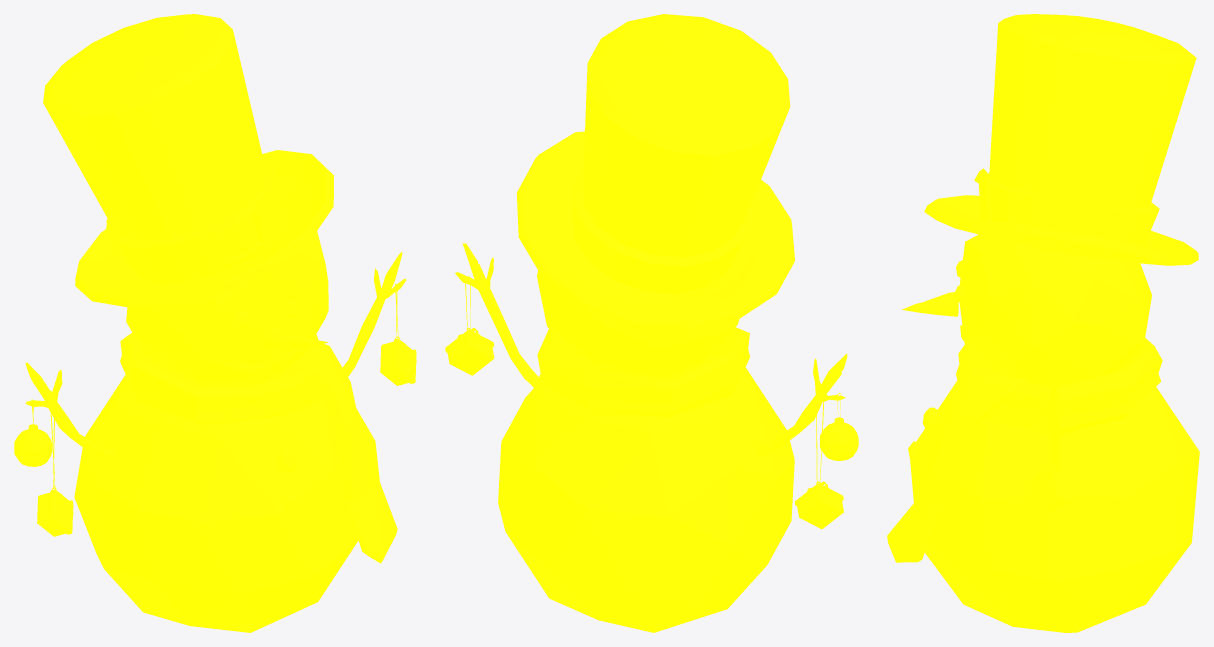
Rendered from RW_Snowman03.glb.
3 views of the same model, side by side, from view 1: azimuth 30°, elevation 25°; view 2: azimuth 150°, elevation 25°; view 3: azimuth 270°, elevation 25° (orthographic). The views are drawn at different scales.
Parts seen in each view (by area): view 1: RW_LP_CP_Character_SnowMan_003; view 2: RW_LP_CP_Character_SnowMan_003; view 3: RW_LP_CP_Character_SnowMan_003.
Part boxes in pixels (left/top/right/bottom): RW_LP_CP_Character_SnowMan_003: left=14, top=14, right=416, bottom=632; RW_LP_CP_Character_SnowMan_003: left=445, top=14, right=858, bottom=632; RW_LP_CP_Character_SnowMan_003: left=887, top=14, right=1199, bottom=632.
Bounding box in the file's own units: 1.19 × 1.67 × 0.8124.
Materials: 1 (1 with a texture image).
